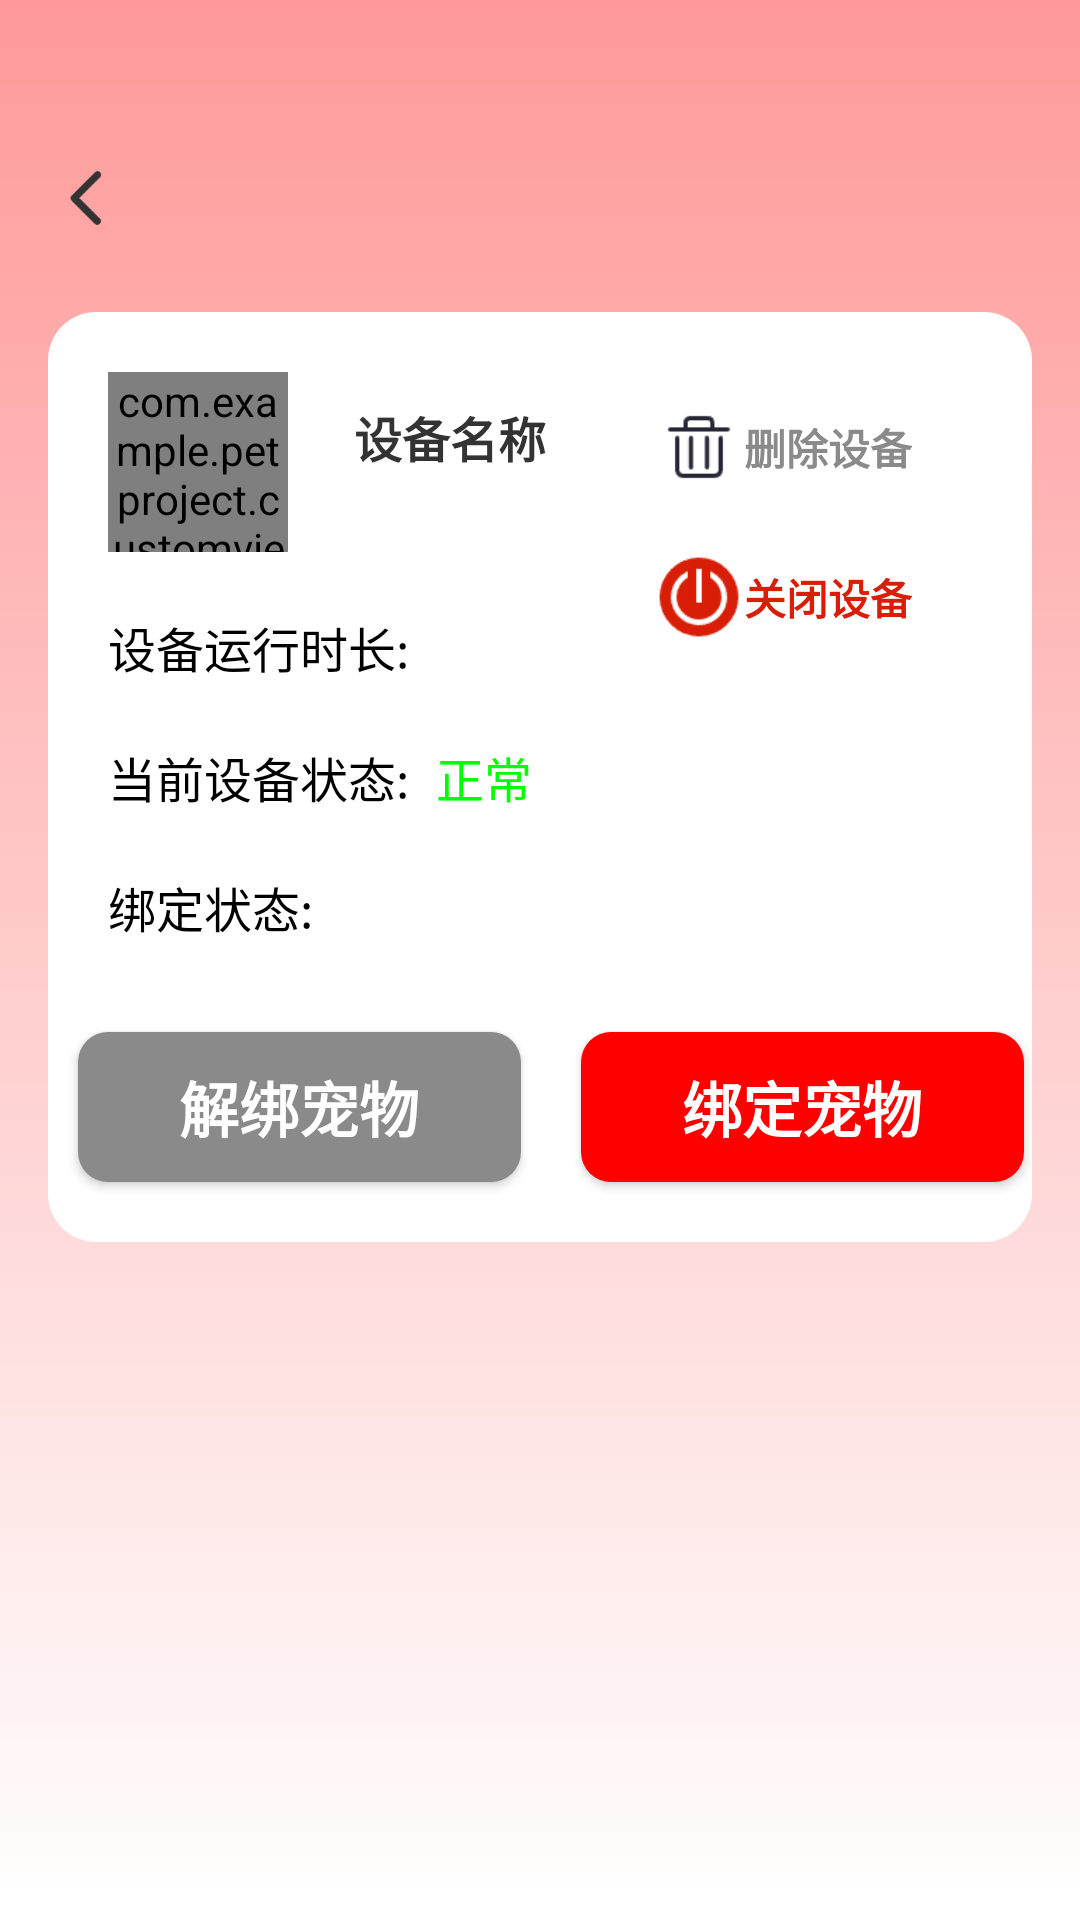

Named icons in this screenshot (1080px×1920px) and their bounding boxes, [x1=x1, y1=y1, x2=x2, y2=y2]:
title back rtl: [x1=70, y1=171, x2=102, y2=225]
